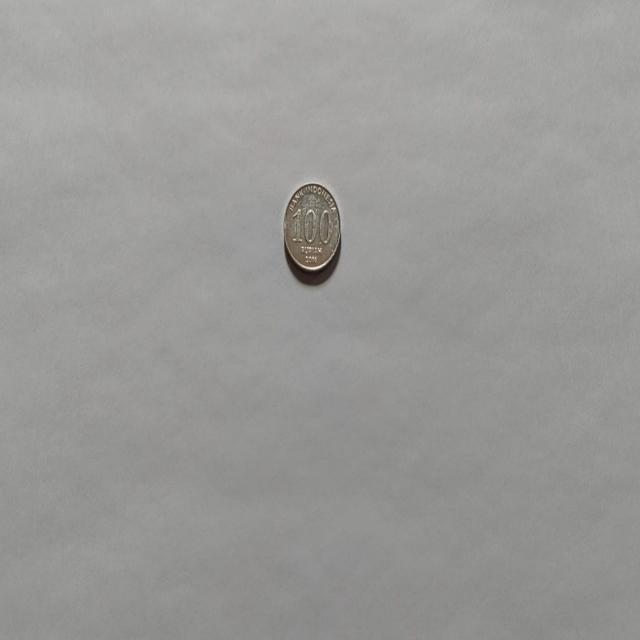seratus rupiah: (282, 180, 341, 278)
